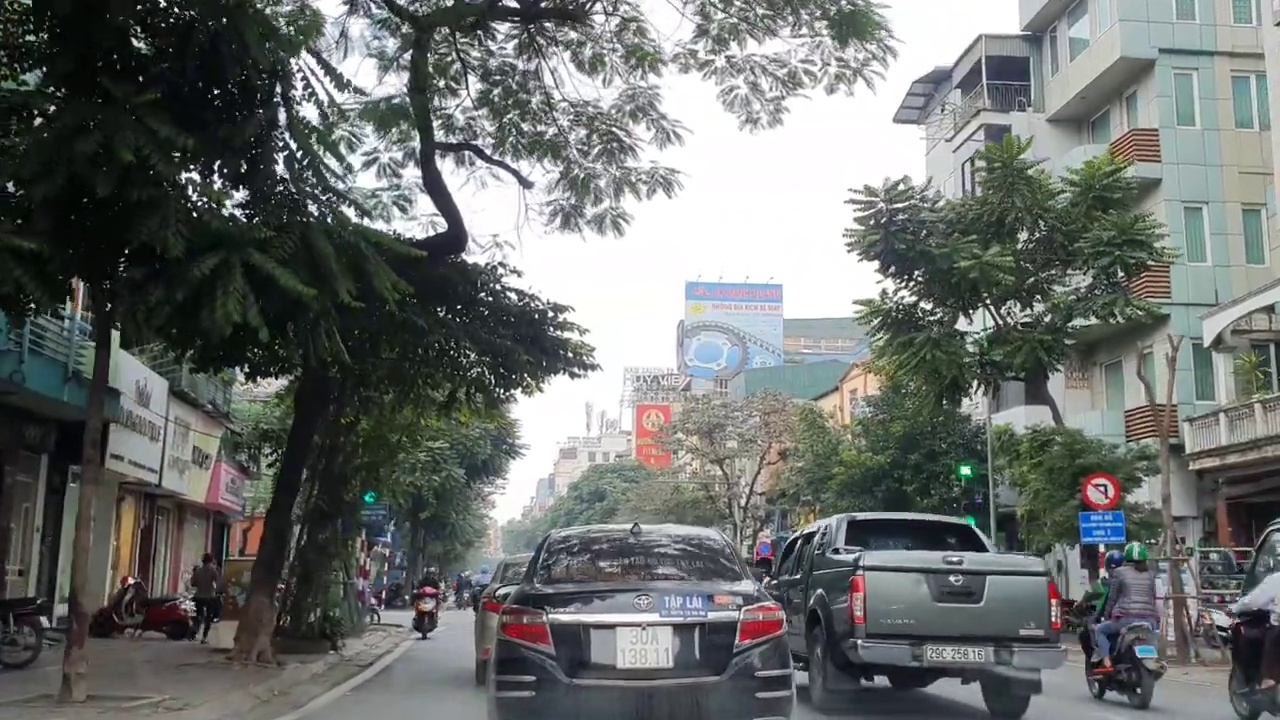vehicle-plate: (1132, 644, 1156, 658)
